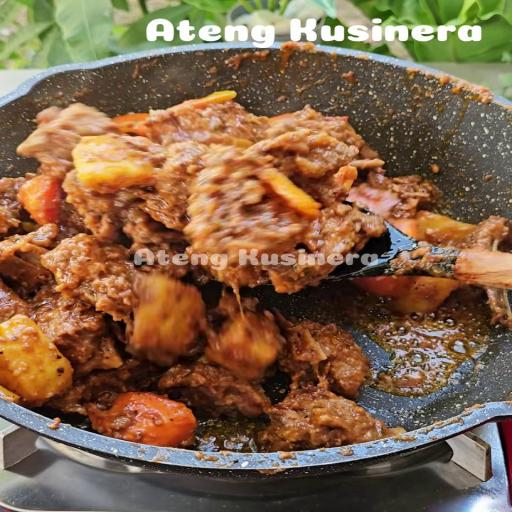pork caldereta: (0, 110, 512, 398)
